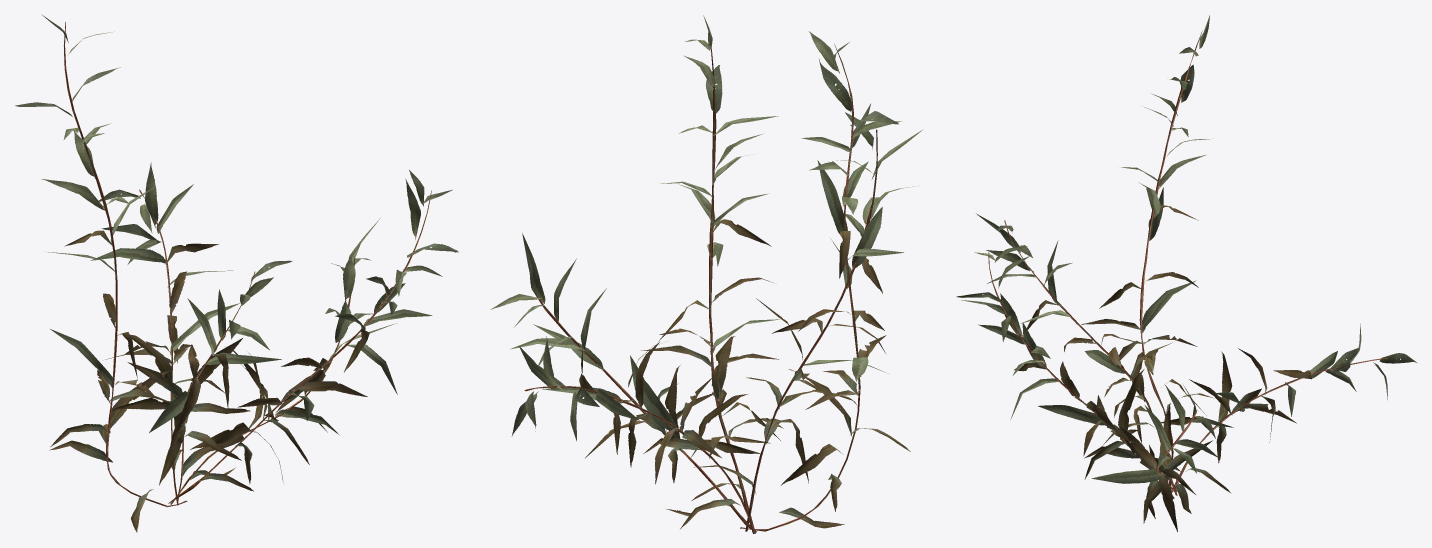
The picture shows the model from 3 angles, left to right: view 1: azimuth 30°, elevation 25°; view 2: azimuth 150°, elevation 25°; view 3: azimuth 270°, elevation 25°; orthographic projection. The views are drawn at different scales.
Visible parts, largest first — view 1: shrub_02__a_lod1; view 2: shrub_02__a_lod1; view 3: shrub_02__a_lod1.
Part boxes in pixels (x1,y1,x2,y2): shrub_02__a_lod1: [15, 14, 458, 532]; shrub_02__a_lod1: [490, 15, 922, 533]; shrub_02__a_lod1: [956, 15, 1416, 531].
Bounding box in the file's own units: 1.31 × 1.69 × 1.64.
1 material, 1 textured.
